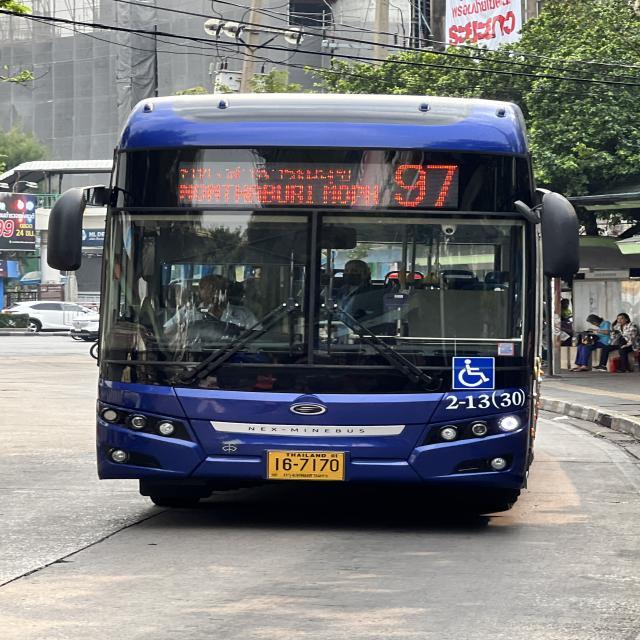Bus-Line-Number: (388, 160, 465, 209)
Destination-Sign-Normal: (171, 159, 385, 209)
TSB-Bus: (44, 92, 578, 512)
